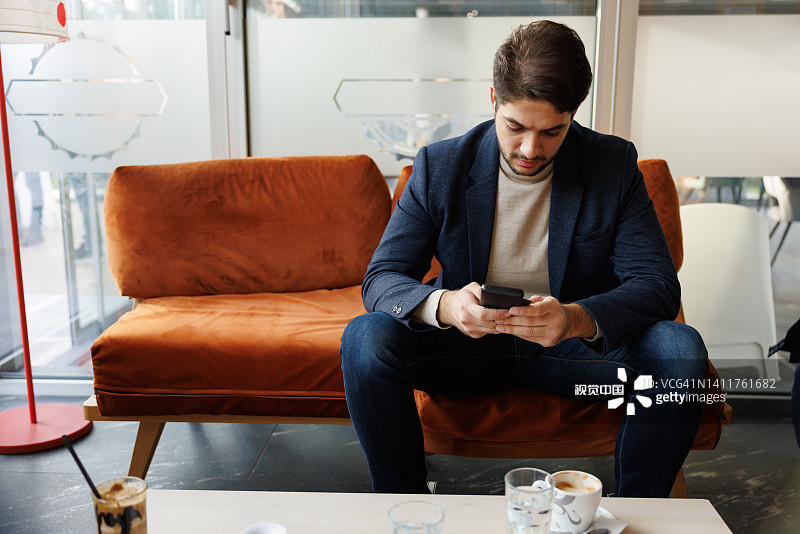reading: (427, 270, 575, 355)
